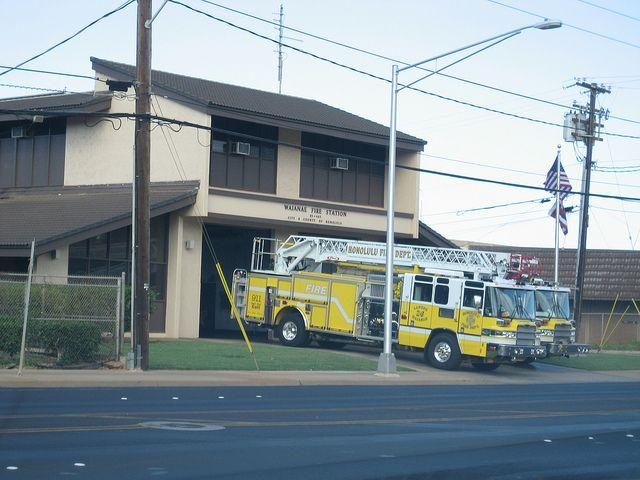firetruck_off: (233, 232, 536, 371), (539, 272, 594, 362)
